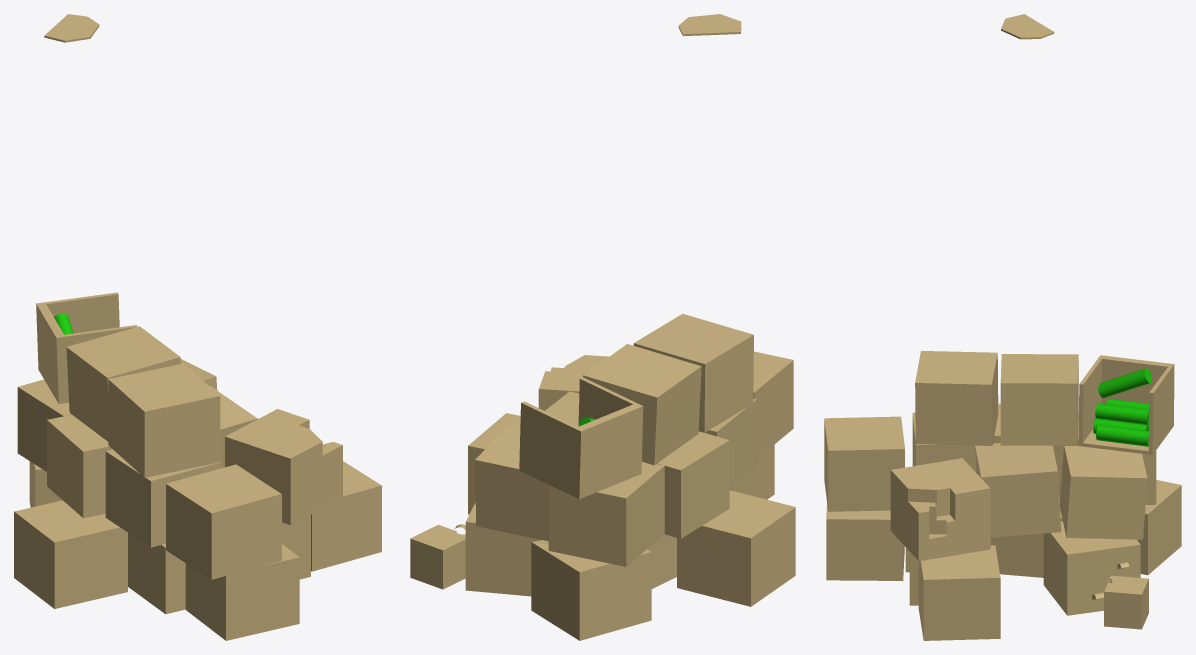
The model's file is BOXES.fbx.
3 renders of one model, left to right at view 1: azimuth 30°, elevation 25°; view 2: azimuth 150°, elevation 25°; view 3: azimuth 270°, elevation 25°, orthographic. The views are drawn at different scales.
Parts seen in each view (by area): view 1: 개체_12, 개체_14, 개체_18, 개체_10, 개체_11, 개체_13, 개체_22, 개체_19, 개체_9, 개체_20, 개체_21, 개체_15 (+4 smaller); view 2: 개체_9, 개체_18, 개체_17, 개체_15, 개체_13, 개체_14, 개체_16, 개체_19, 개체_28, 개체_12, 개체_26, 개체_20 (+6 smaller); view 3: 개체_10, 개체_14, 개체_16, 개체_13, 개체_22, 개체_12, 개체_24, 개체_28, 개체_9, 개체_11, 개체_17, 개체_26 (+7 smaller).
Part boxes in pixels (bbox=[...]): 개체_12: bbox=[166, 464, 281, 579]; 개체_14: bbox=[108, 363, 220, 477]; 개체_18: bbox=[14, 500, 127, 608]; 개체_10: bbox=[225, 409, 342, 524]; 개체_11: bbox=[185, 544, 299, 640]; 개체_13: bbox=[66, 326, 180, 441]; 개체_22: bbox=[311, 461, 381, 571]; 개체_19: bbox=[47, 415, 112, 518]; 개체_9: bbox=[36, 292, 137, 403]; 개체_20: bbox=[105, 449, 221, 547]; 개체_21: bbox=[128, 533, 185, 614]; 개체_15: bbox=[17, 379, 71, 471]; 개체_9: bbox=[519, 377, 643, 499]; 개체_18: bbox=[677, 490, 795, 606]; 개체_17: bbox=[531, 540, 651, 640]; 개체_15: bbox=[548, 462, 664, 566]; 개체_13: bbox=[583, 344, 701, 465]; 개체_14: bbox=[633, 313, 753, 432]; 개체_16: bbox=[475, 421, 548, 541]; 개체_19: bbox=[657, 431, 729, 538]; 개체_28: bbox=[465, 502, 541, 596]; 개체_12: bbox=[753, 351, 793, 458]; 개체_26: bbox=[410, 524, 465, 589]; 개체_20: bbox=[705, 398, 756, 489]; 개체_10: bbox=[890, 458, 990, 561]; 개체_14: bbox=[915, 351, 998, 445]; 개체_16: bbox=[1060, 445, 1147, 539]; 개체_13: bbox=[1000, 354, 1078, 445]; 개체_22: bbox=[918, 545, 1000, 640]; 개체_12: bbox=[824, 416, 904, 511]; 개체_24: bbox=[975, 443, 1061, 537]; 개체_28: bbox=[1043, 521, 1140, 615]; 개체_9: bbox=[1078, 355, 1174, 454]; 개체_11: bbox=[826, 503, 904, 580]; 개체_17: bbox=[1137, 480, 1181, 575]; 개체_26: bbox=[1104, 575, 1148, 629].
Size of the model in its own units: 8.37 by 9.29 by 14.34.
